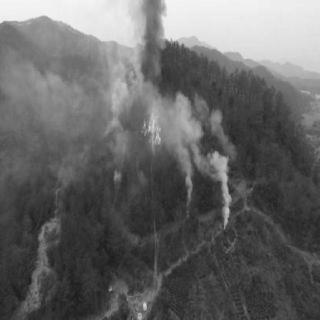Fire: (138, 100, 164, 150)
Smoke: (100, 2, 188, 114), (94, 70, 136, 182), (166, 88, 196, 210)
